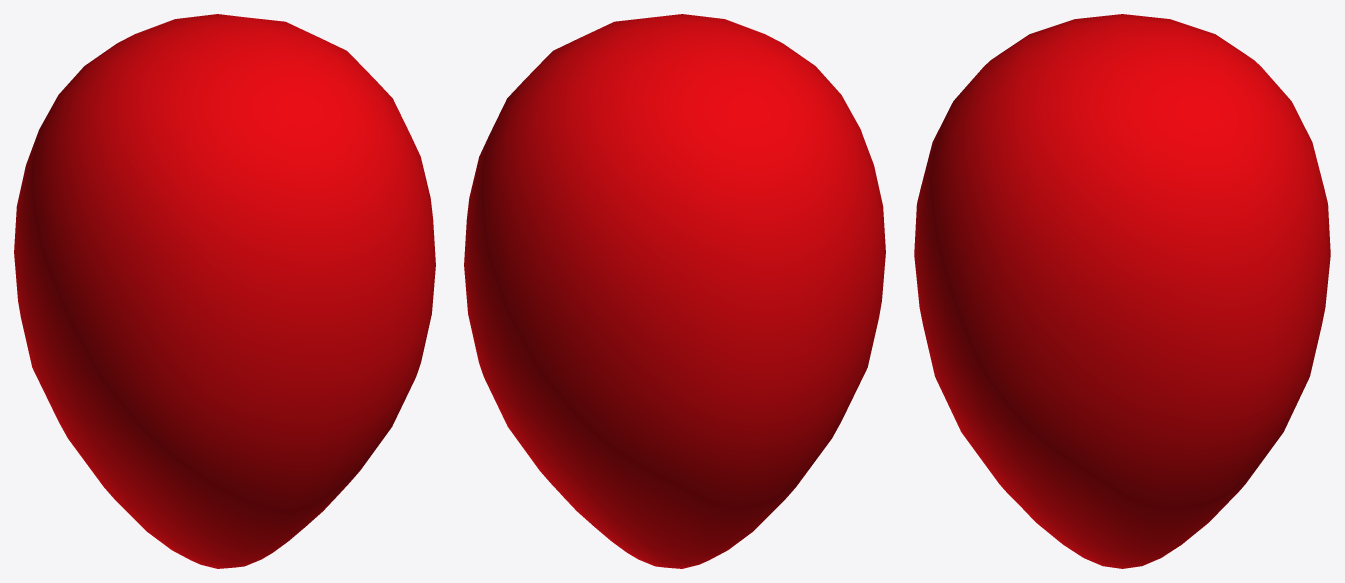
Rendered from pontinho1.fbx.
3 views of the same model, side by side, from view 1: azimuth 30°, elevation 25°; view 2: azimuth 150°, elevation 25°; view 3: azimuth 270°, elevation 25° (orthographic).
Parts seen in each view (by area): view 1: Cube; view 2: Cube; view 3: Cube.
Part boxes in pixels (box(x1,y1,x2,y2)): Cube: box(14, 14, 435, 568); Cube: box(464, 14, 885, 568); Cube: box(914, 14, 1330, 568).
Size of the model in its own units: 34.3 by 47.77 by 34.3.
